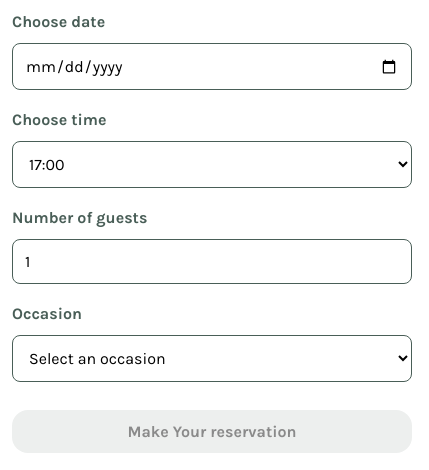
React form validation › submit button is enabled when all fields are valid
The width and height of the screenshot is (429, 470).
Type "2099-12-31" into the date field labelled "Choose date".
click(212, 66); type("2099-12-31")  # box [12,43,412,90]
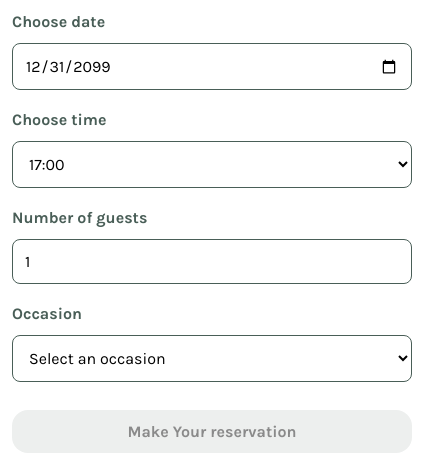
Select "18:00" in the dropdown labelled "Choose time" at (212, 164), box [12,141,412,188]
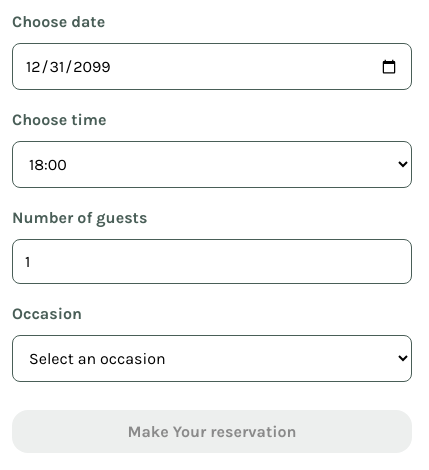
Type "4" into the number field labelled "Number of guests".
click(212, 262); type("4")  # box [12,239,412,284]
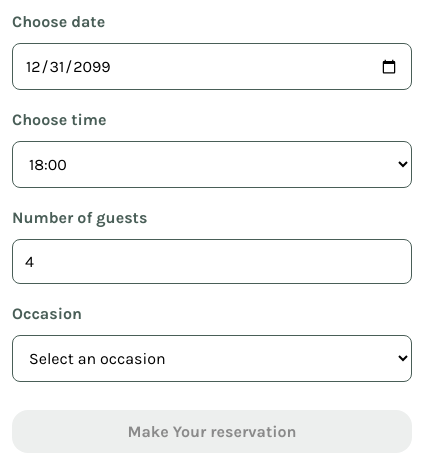
Select "Birthday" in the dropdown labelled "Occasion" at (212, 358), box [12,335,412,382]
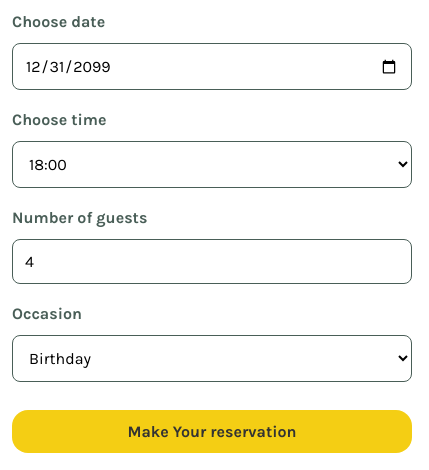
Result: the button is enabled at [12,410,412,453]
